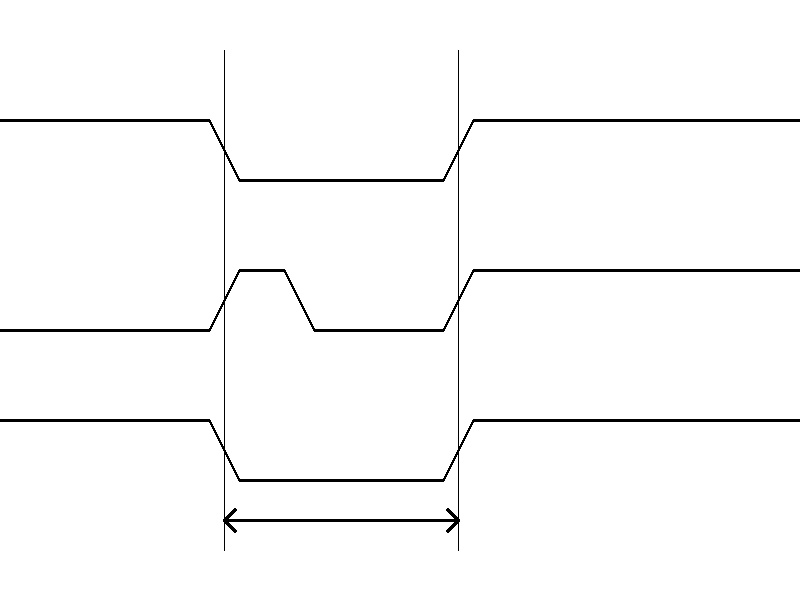double_arrow: (224, 505, 458, 535)
